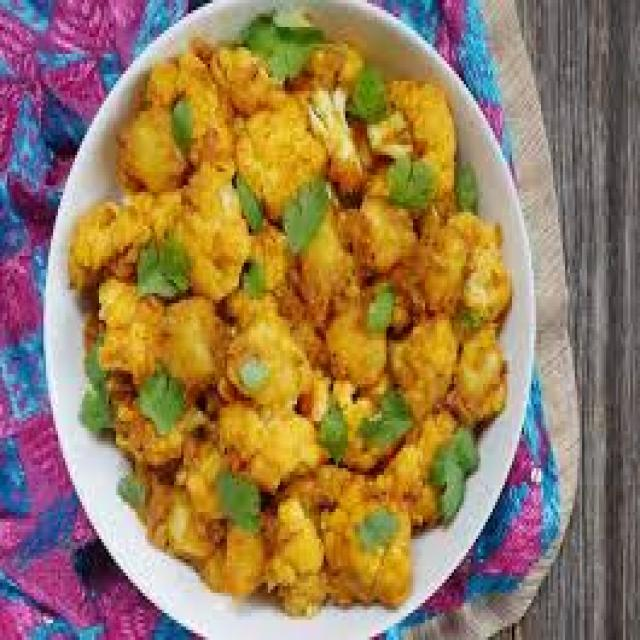Aloo Gobi: (72, 63, 332, 542)
